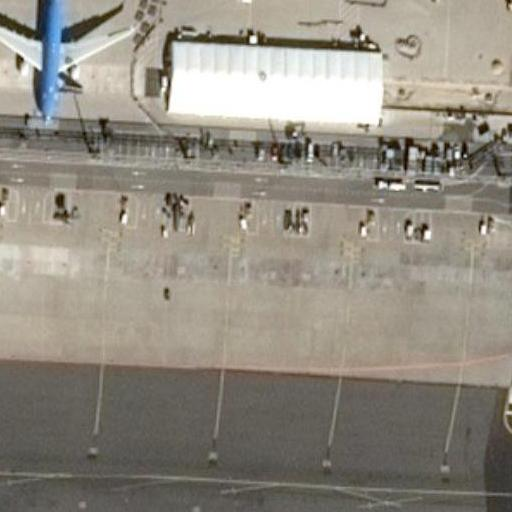Aircraft: (0, 0, 139, 126)
